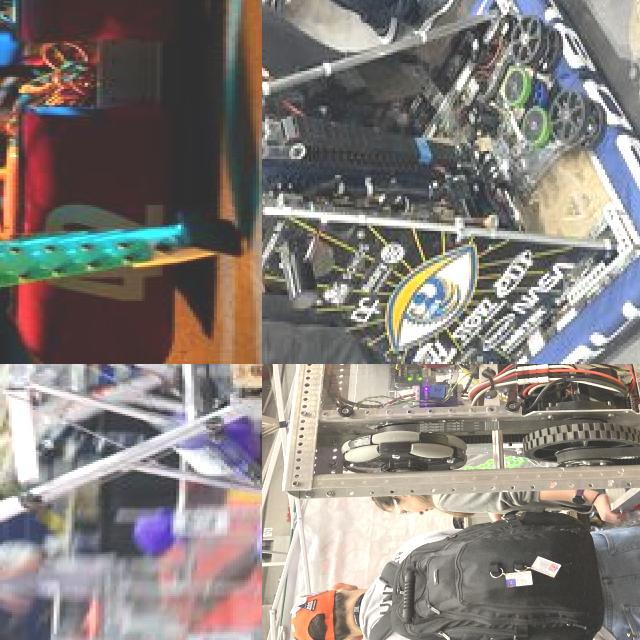FRC-Robots: (262, 0, 640, 364), (0, 0, 253, 364), (295, 364, 640, 567), (0, 364, 262, 539)
